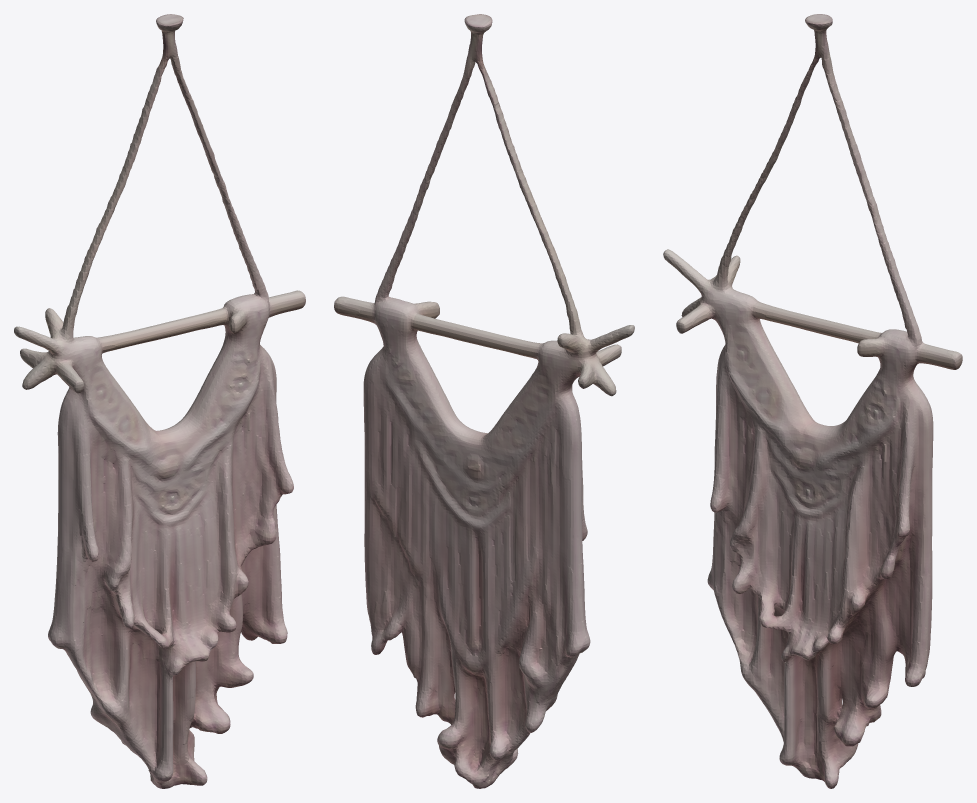
3 renders of one model, left to right at view 1: azimuth 30°, elevation 25°; view 2: azimuth 150°, elevation 25°; view 3: azimuth 330°, elevation 25°, orthographic.
Visible parts, largest first — view 1: world; view 2: world; view 3: world.
Boxes of the visible parts, x1,y1,x2,y2 form: world: (14, 14, 305, 788); world: (334, 14, 634, 788); world: (663, 14, 962, 788).
Bounding box in the file's own units: 0.4005 × 0.9998 × 0.1139.
